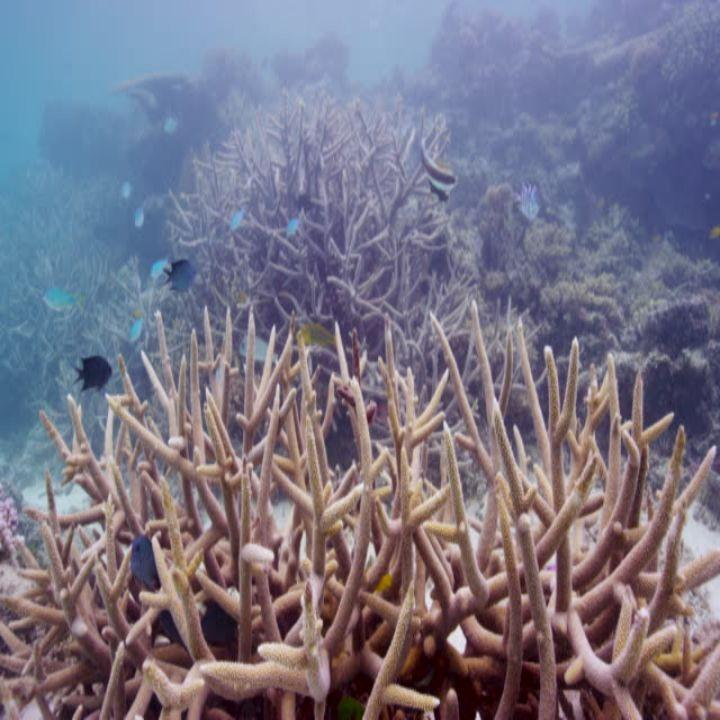Dead Coral: (16, 309, 710, 719)
